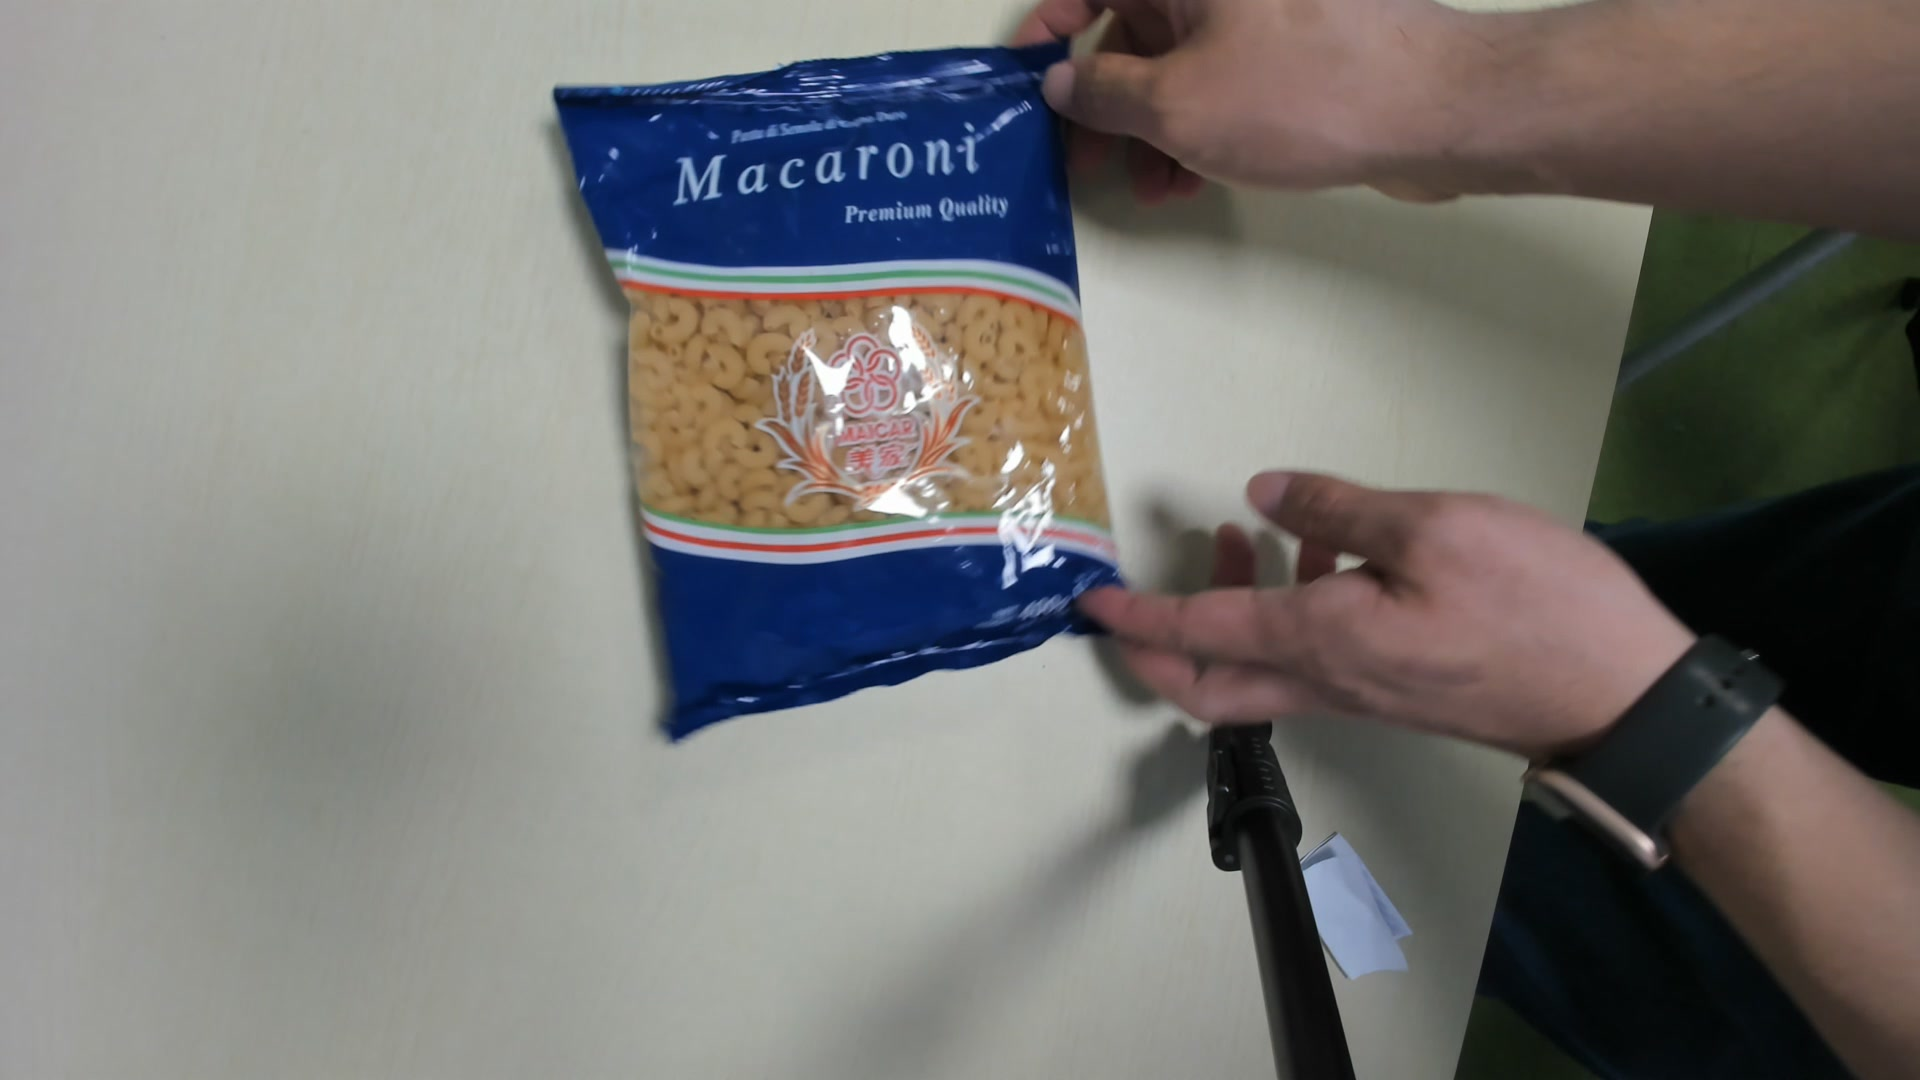Pasta_400-499g_Halal_NonHealthy: (547, 50, 1117, 725)
